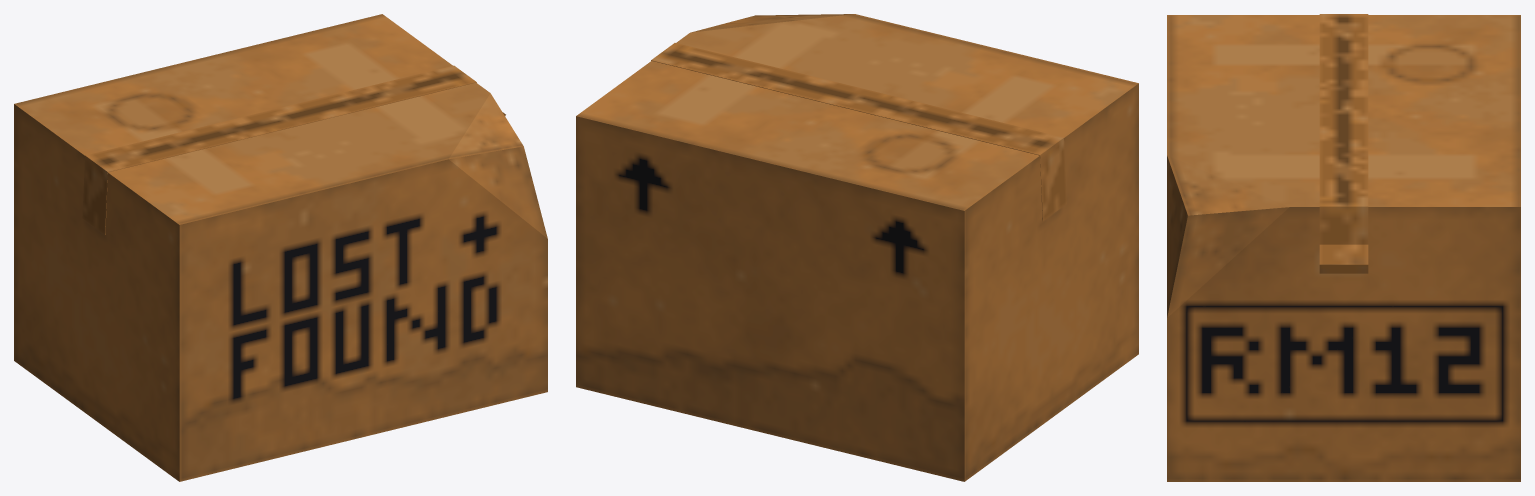
Rendered from SM_Motel_CardboardBox.obj.
3 views of the same model, side by side, from view 1: azimuth 30°, elevation 25°; view 2: azimuth 150°, elevation 25°; view 3: azimuth 270°, elevation 25° (orthographic). The views are drawn at different scales.
Visible parts, largest first — view 1: SM_Motel_CardboardBox; view 2: SM_Motel_CardboardBox; view 3: SM_Motel_CardboardBox.
Boxes of the visible parts, left/top/right/bottom form: SM_Motel_CardboardBox: left=14, top=14, right=547, bottom=481; SM_Motel_CardboardBox: left=576, top=14, right=1138, bottom=481; SM_Motel_CardboardBox: left=1167, top=14, right=1520, bottom=481.
Bounding box in the file's own units: 0.49 × 0.3008 × 0.35.
Materials: 2 (2 with a texture image).
